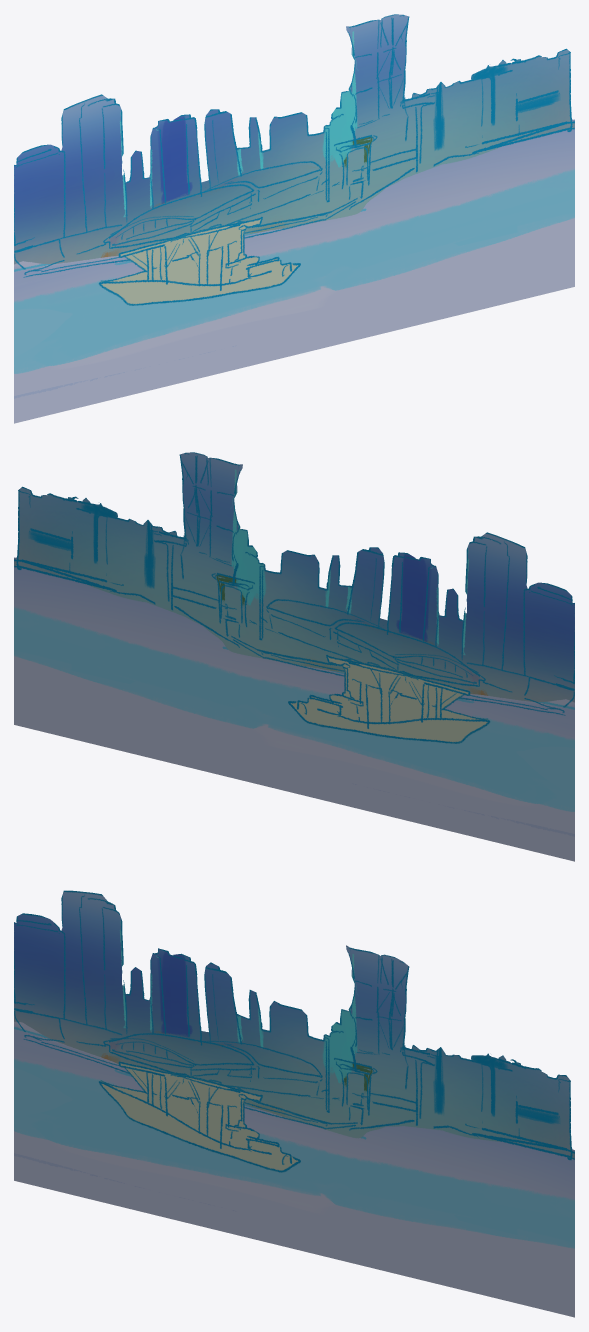
3 views of the same model, one above another, from view 1: azimuth 30°, elevation 25°; view 2: azimuth 150°, elevation 25°; view 3: azimuth 330°, elevation 25° (orthographic).
Visible parts, largest first — view 1: mask_bg_5; view 2: mask_bg_5; view 3: mask_bg_5.
Part boxes in pixels (x1,y1,x2,y2): mask_bg_5: (14,14,574,423); mask_bg_5: (14,452,574,861); mask_bg_5: (14,890,574,1317).
Size of the model in its own units: 10 by 5.39 by 1.53e-07.
1 material, 1 textured.
